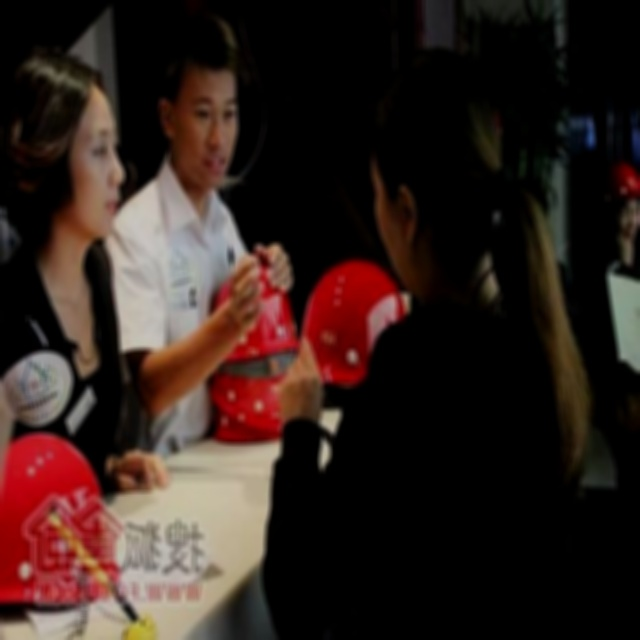Sin_Casco_Mascarrilla: (9, 50, 120, 235), (157, 15, 237, 180)
